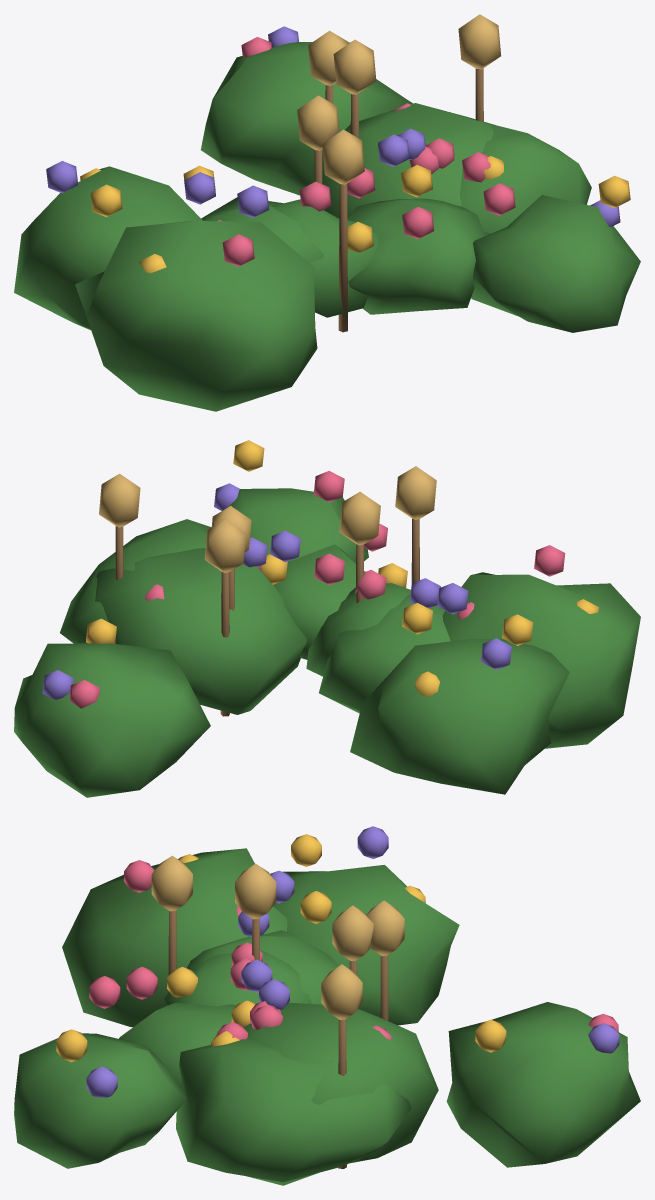
Rendered from yabani_bahce.glb.
The picture shows the model from 3 angles, top to bottom: view 1: azimuth 30°, elevation 25°; view 2: azimuth 150°, elevation 25°; view 3: azimuth 270°, elevation 25°; orthographic projection. The views are drawn at different scales.
Visible parts, largest first — view 1: yabani_bahce; view 2: yabani_bahce; view 3: yabani_bahce.
Boxes of the visible parts, x1,y1,x2,y2 form: yabani_bahce: (14,14,640,411); yabani_bahce: (14,440,640,797); yabani_bahce: (14,826,640,1185).
Bounding box in the file's own units: 2.98 × 1.28 × 3.1.
